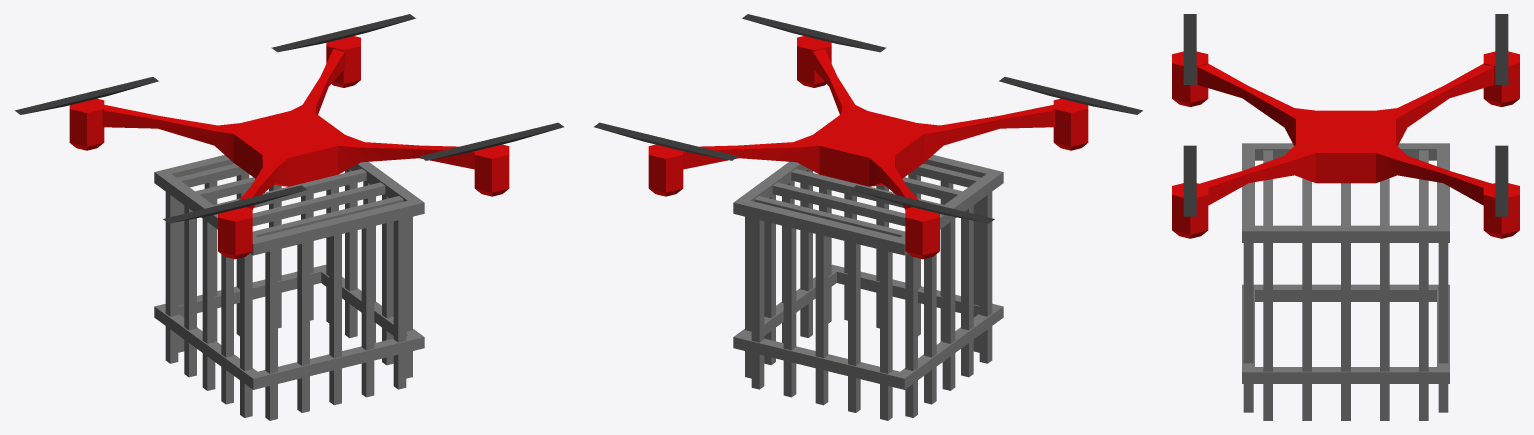
Rendered from chopper.fbx.
3 renders of one model, left to right at view 1: azimuth 30°, elevation 25°; view 2: azimuth 150°, elevation 25°; view 3: azimuth 270°, elevation 25°, orthographic. The views are drawn at different scales.
Visible parts, largest first — view 1: pCube1, pCube3, pCube2, pCube12, pCube13, pCube19, pCube21, pCube9, pCube10, pCube11, pCube23, pCube20 (+18 smaller); view 2: pCube1, pCube3, pCube2, pCube4, pCube5, pCube6, pCube19, pCube23, pCube8, pCube7, pCube21, pCube22 (+18 smaller); view 3: pCube1, pCube3, pCube2, pCube24, pCube25, pCube26, pCube27, pCube28, pCube13, pCube6, pCylinder1, pCylinder2 (+11 smaller).
Part boxes in pixels (x1,y1,x2,y2): pCube1: (102, 49, 474, 209); pCube3: (154, 264, 424, 389); pCube2: (154, 155, 424, 255); pCube12: (361, 226, 374, 397); pCube13: (393, 218, 406, 389); pCube19: (202, 219, 215, 390); pCube21: (165, 192, 178, 363); pCube9: (297, 242, 309, 412); pCube10: (265, 249, 277, 420); pCube11: (329, 234, 341, 405); pCube23: (240, 253, 252, 417); pCube20: (184, 205, 196, 377); pCube1: (683, 49, 1055, 209); pCube3: (733, 264, 1003, 389); pCube2: (733, 155, 1003, 255); pCube4: (815, 234, 828, 405); pCube5: (783, 226, 796, 397); pCube6: (751, 218, 764, 389); pCube19: (942, 219, 955, 390); pCube23: (979, 192, 992, 363); pCube8: (880, 249, 892, 420); pCube7: (848, 242, 860, 412); pCube21: (905, 253, 917, 417); pCube22: (961, 205, 973, 377); pCube1: (1197, 63, 1494, 205); pCube3: (1242, 284, 1449, 383); pCube2: (1242, 143, 1449, 242); pCube24: (1302, 243, 1311, 420); pCube25: (1263, 243, 1272, 420); pCube26: (1341, 243, 1350, 420); pCube27: (1380, 243, 1389, 420); pCube28: (1419, 243, 1428, 420); pCube13: (1243, 243, 1253, 412); pCube6: (1438, 243, 1448, 412); pCylinder1: (1172, 183, 1208, 238); pCylinder2: (1483, 183, 1519, 238).
Size of the model in its own units: 370 by 223 by 268.
